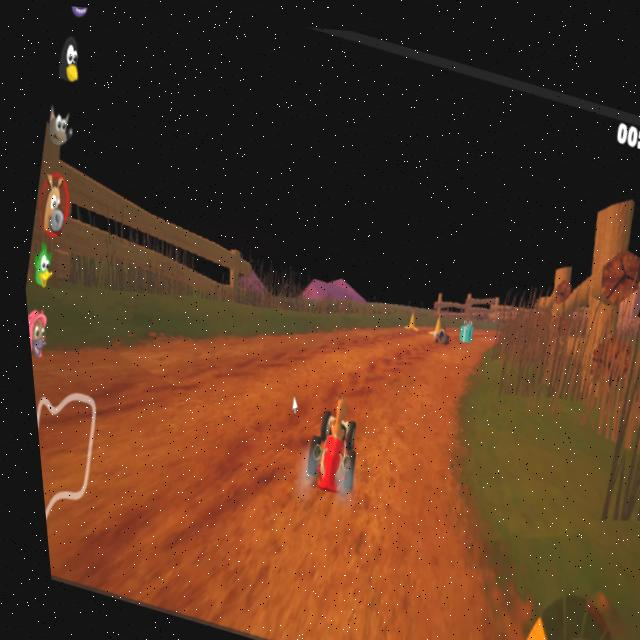bonus: (448, 305, 474, 338)
obstacle: (394, 300, 420, 332)
player_kart: (282, 361, 376, 524)
